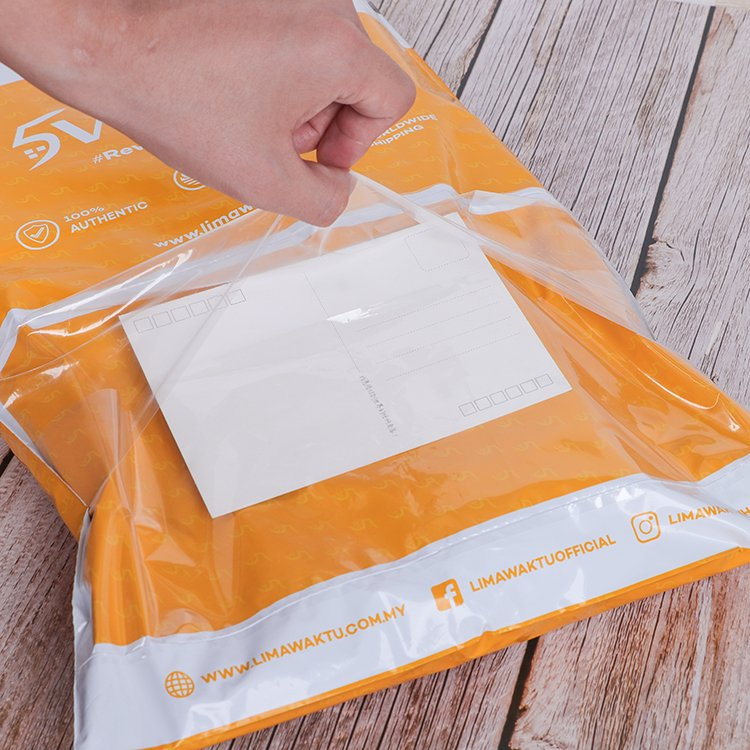塑料袋: (0, 47, 750, 750)
